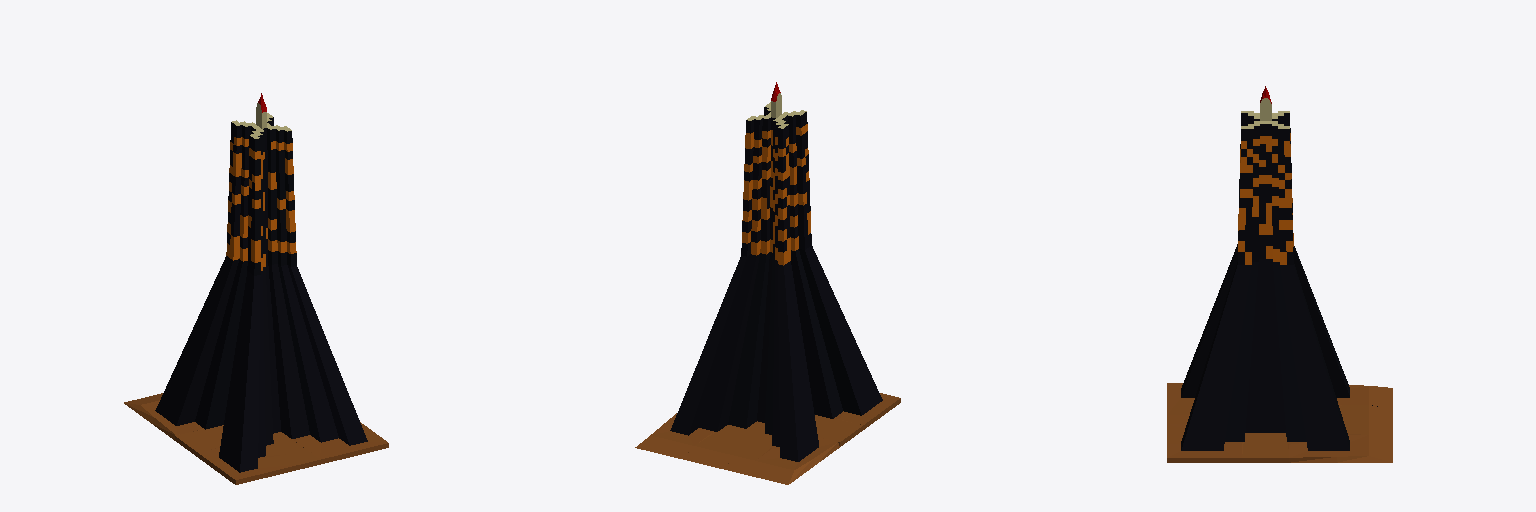
Rendered from skyscraper3.obj.
3 views of the same model, side by side, from view 1: azimuth 30°, elevation 25°; view 2: azimuth 150°, elevation 25°; view 3: azimuth 270°, elevation 25° (orthographic).
Visible parts, largest first — view 1: city; view 2: city; view 3: city.
Part boxes in pixels (x1,y1,x2,y2): city: (124, 93, 388, 484); city: (635, 82, 900, 484); city: (1167, 86, 1392, 462).
Bounding box in the file's own units: 6.59 × 13.9 × 8.39.